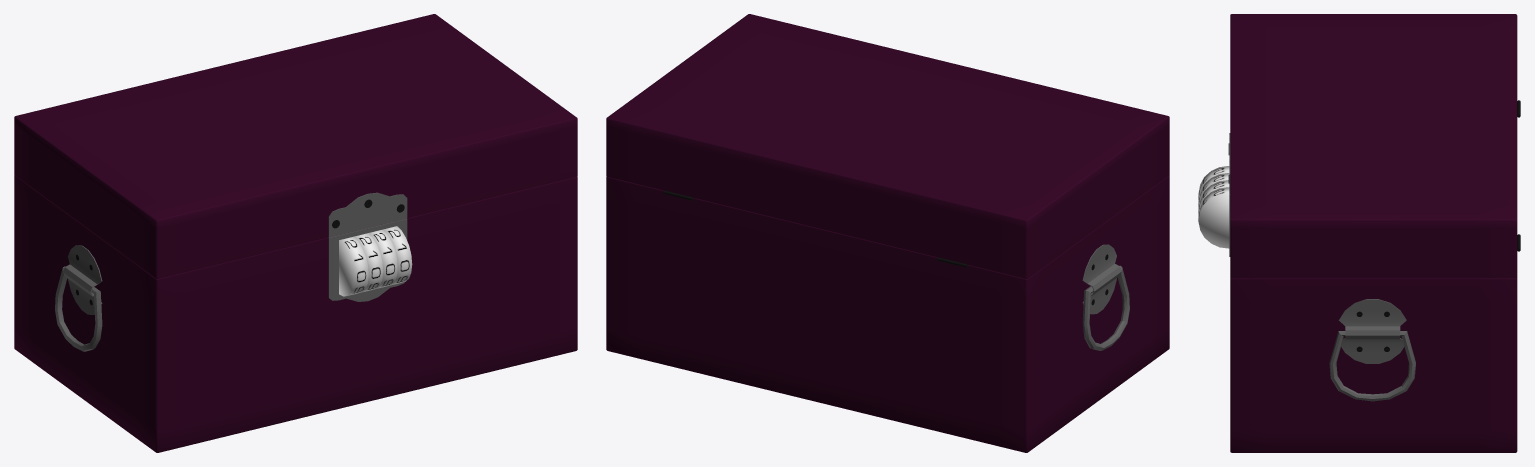
Rendered from Chest1.fbx.
3 views of the same model, side by side, from view 1: azimuth 30°, elevation 25°; view 2: azimuth 150°, elevation 25°; view 3: azimuth 270°, elevation 25° (orthographic).
Visible parts, largest first — view 1: LowerChest, UpperChest, Lock1, Lock2, Lock3, Lock4; view 2: LowerChest, UpperChest; view 3: UpperChest, LowerChest, Lock4.
Boxes of the visible parts, bbox=[...] form: LowerChest: bbox=[14, 175, 577, 452]; UpperChest: bbox=[14, 14, 577, 278]; Lock1: bbox=[339, 236, 368, 296]; Lock2: bbox=[354, 233, 383, 291]; Lock3: bbox=[368, 229, 397, 288]; Lock4: bbox=[383, 226, 412, 285]; LowerChest: bbox=[606, 175, 1169, 452]; UpperChest: bbox=[606, 14, 1169, 278]; UpperChest: bbox=[1228, 14, 1517, 278]; LowerChest: bbox=[1229, 100, 1520, 452]; Lock4: bbox=[1198, 187, 1229, 248].
Bounding box in the file's own units: 122 × 60.79 × 75.96.
